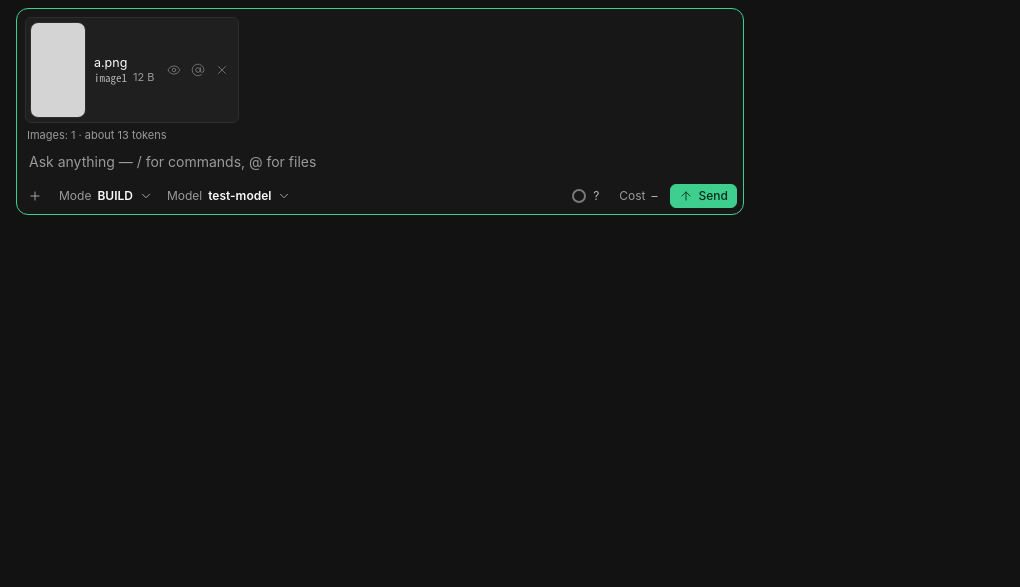
removing is undoable (AC-U1) › Undo brings the same picture back under the same reference
The width and height of the screenshot is (1020, 587).
Click the button named "Remove a.png". click: [222, 70]
box: [210, 58, 234, 82]
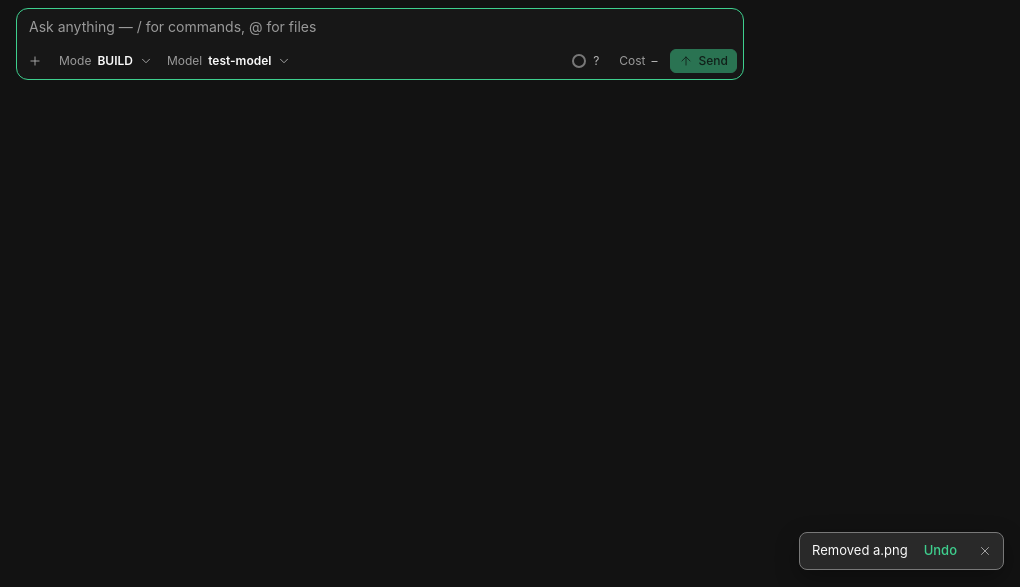
Now no list items are shown
Click the button "Undo". click: [940, 551]
box: [916, 539, 965, 563]
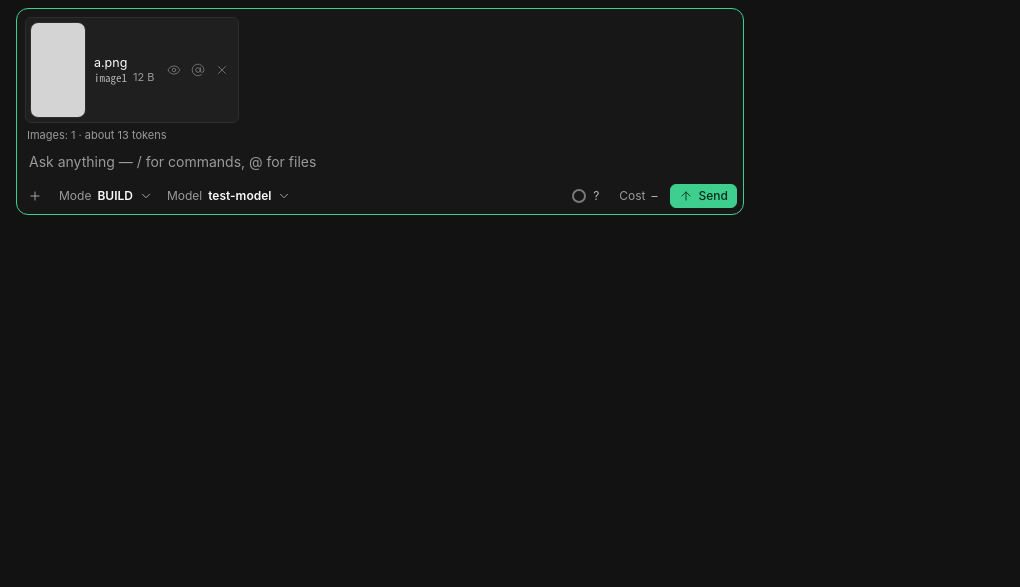
Now the number of list items is 1, box [25, 17, 240, 123]
